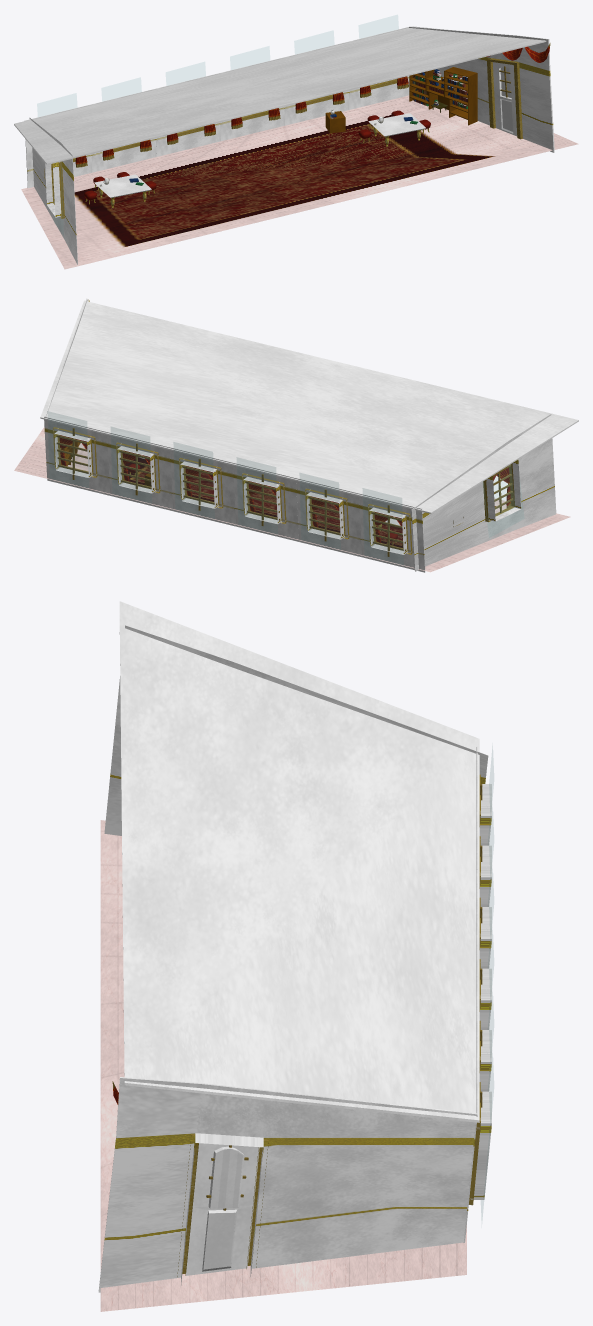
Rendered from 343_bg_sharlotteB.fbx.
3 renders of one model, top to bottom at view 1: azimuth 30°, elevation 25°; view 2: azimuth 150°, elevation 25°; view 3: azimuth 270°, elevation 25°, orthographic. The views are drawn at different scales.
Parts seen in each view (by area): view 1: floor, pPlane4, polySurface1, pPlane2, Hondana, pPlane5, pPlane35, pPlane28, polySurface4, polySurface3, pCube31, pCube345 (+7 smaller); view 2: pPlane4, pPlane2, pPlane5, pPlane35, pPlane28, floor, pPlane17, pPlane26, pPlane33, pPlane21, pPlane34, pPlane27 (+8 smaller); view 3: pPlane4, polySurface1, floor, polySurface4, pPlane2, pPlane35, pPlane5, pPlane28, polySurface3.
Boxes of the visible parts, <box> form: floor: <box>21,95,578,269</box>; pPlane4: <box>14,26,546,164</box>; polySurface1: <box>409,26,554,152</box>; pPlane2: <box>29,117,77,264</box>; Hondana: <box>409,67,477,125</box>; pPlane5: <box>153,58,285,156</box>; pPlane35: <box>282,27,409,125</box>; pPlane28: <box>25,89,156,188</box>; polySurface4: <box>492,62,517,136</box>; polySurface3: <box>487,58,522,139</box>; pCube31: <box>94,174,151,197</box>; pCube345: <box>368,113,425,136</box>; pPlane4: <box>40,300,578,513</box>; pPlane2: <box>411,414,556,571</box>; pPlane5: <box>170,447,299,541</box>; pPlane35: <box>44,416,173,510</box>; pPlane28: <box>296,478,425,572</box>; floor: <box>14,427,570,572</box>; pPlane17: <box>237,458,277,533</box>; pPlane26: <box>363,488,403,564</box>; pPlane33: <box>111,427,151,503</box>; pPlane21: <box>174,442,214,518</box>; pPlane34: <box>48,412,88,487</box>; pPlane27: <box>300,473,340,549</box>; pPlane4: <box>119,601,479,1122</box>; polySurface1: <box>98,1077,477,1292</box>; floor: <box>100,820,466,1311</box>; polySurface4: <box>186,1143,259,1275</box>; pPlane2: <box>104,625,488,835</box>; pPlane35: <box>463,992,491,1242</box>; pPlane5: <box>476,869,491,1029</box>; pPlane28: <box>476,746,491,906</box>; polySurface3: <box>177,1134,268,1276</box>.
Size of the model in its own units: 4335 by 865 by 1438.
